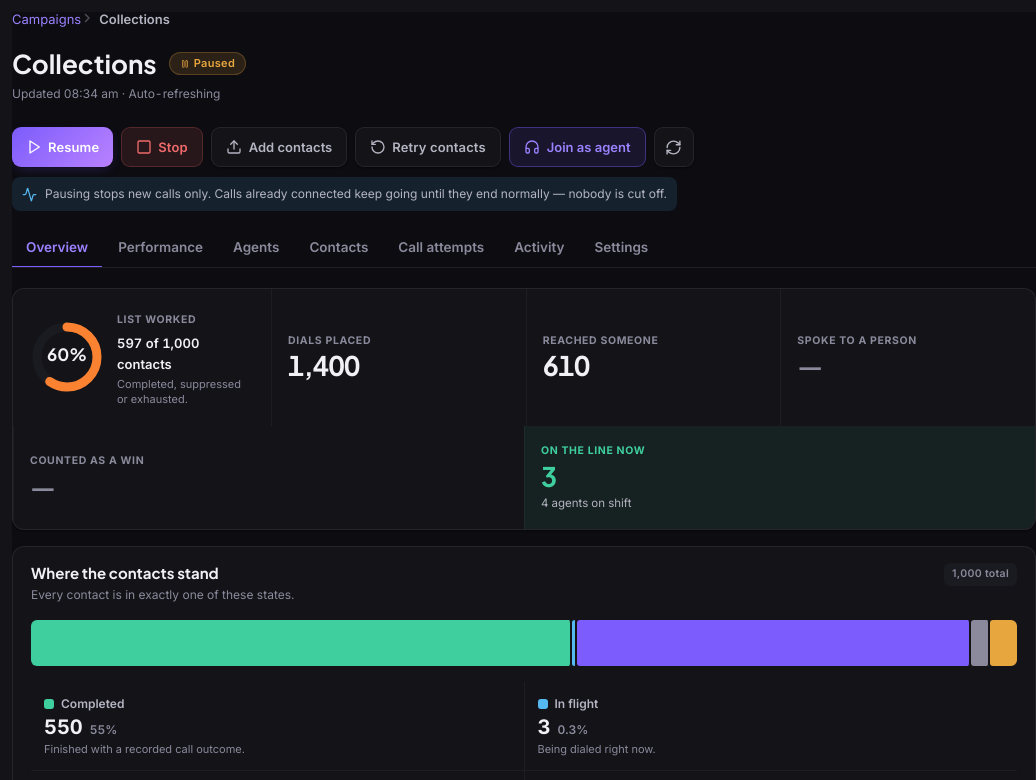
Test: campaign detail — a stale Start/Resume must not 409 › re-reads before POSTing resume, so a stale Resume never reaches the network
What coordinates should you click on to do the following:
click the button "Resume"
I would click on:
 (63, 147)
Its box is [12,127,113,167].
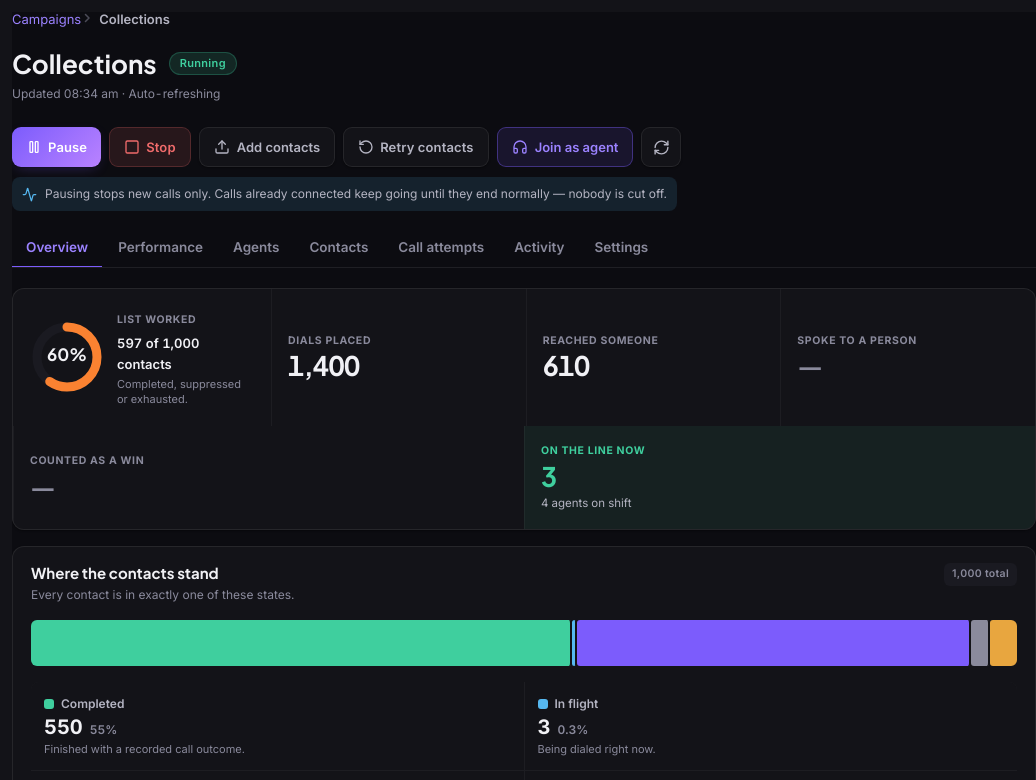
Check: the button "Pause" is shown, box [12,127,101,167]
